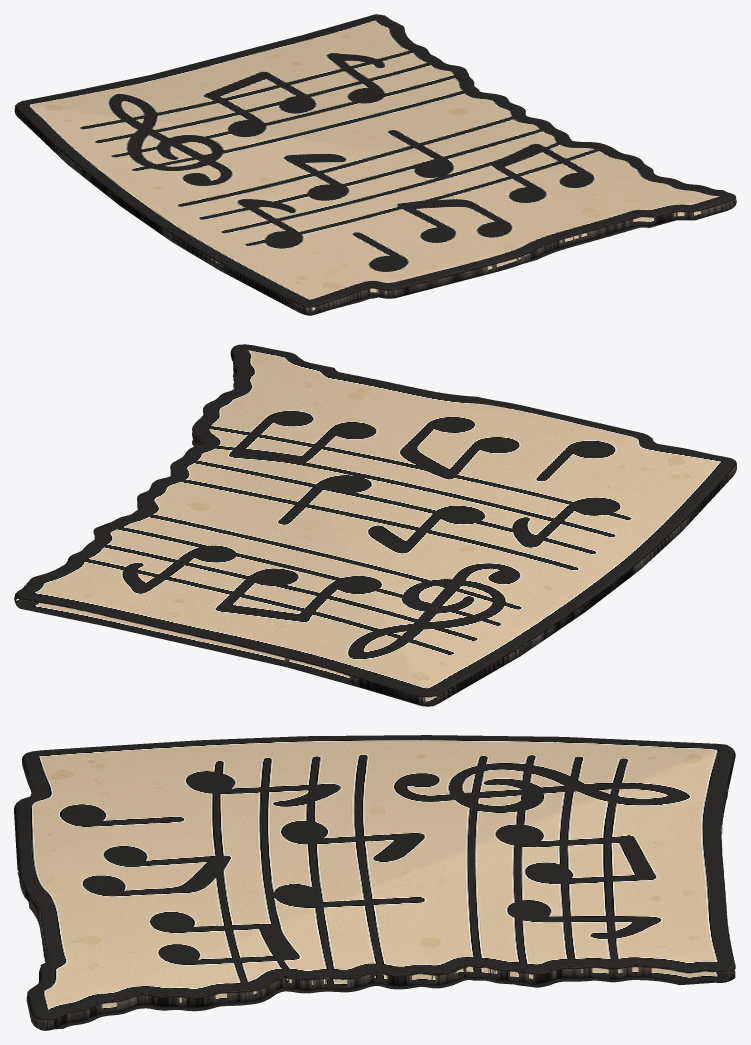
The model's file is PapelNotasMusicais.fbx.
3 views of the same model, one above another, from view 1: azimuth 30°, elevation 25°; view 2: azimuth 150°, elevation 25°; view 3: azimuth 270°, elevation 25° (orthographic). The views are drawn at different scales.
Parts seen in each view (by area): view 1: PapelNotasMusicais; view 2: PapelNotasMusicais; view 3: PapelNotasMusicais.
Boxes of the visible parts, x1=… form: PapelNotasMusicais: x1=14, y1=14, x2=736, y2=315; PapelNotasMusicais: x1=14, y1=344, x2=736, y2=706; PapelNotasMusicais: x1=14, y1=735, x2=735, y2=1030.
Size of the model in its own units: 21.88 by 0.5183 by 23.4.
1 material, 1 textured.
